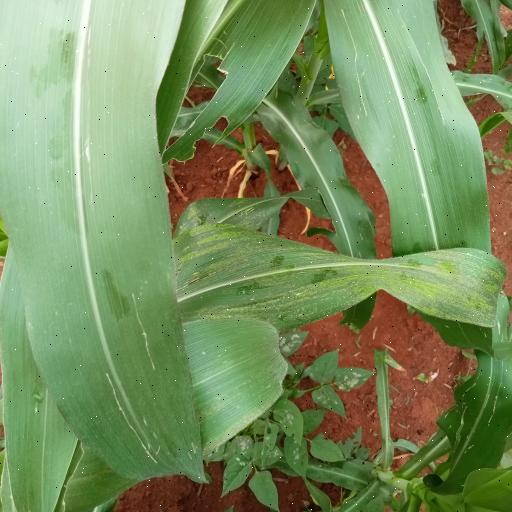Corn_Brown_Spots: (168, 235, 504, 359)
